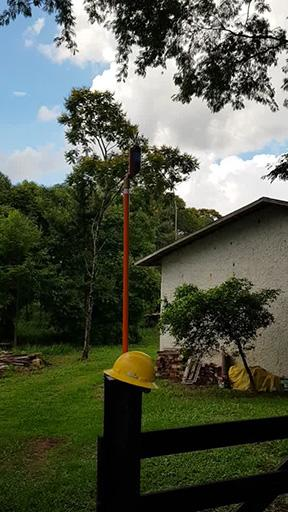Vara_Manobra: (122, 180, 129, 355)
